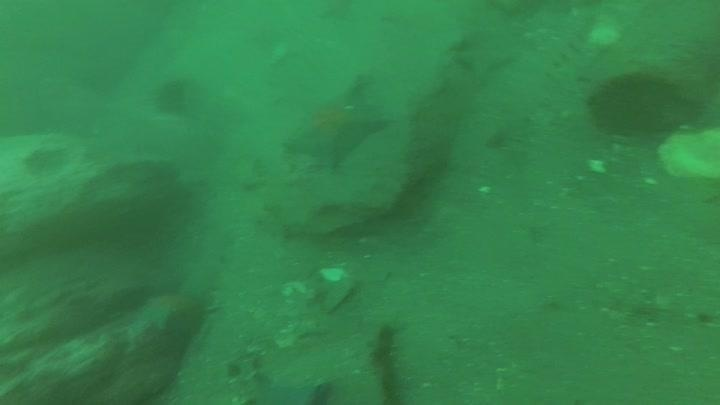echinus: (586, 70, 682, 140), (151, 74, 198, 119)
starfish: (281, 73, 393, 172), (122, 286, 214, 352), (246, 365, 331, 404)
